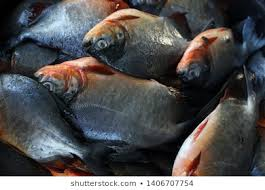Ikan Bawal: (80, 7, 225, 76)
